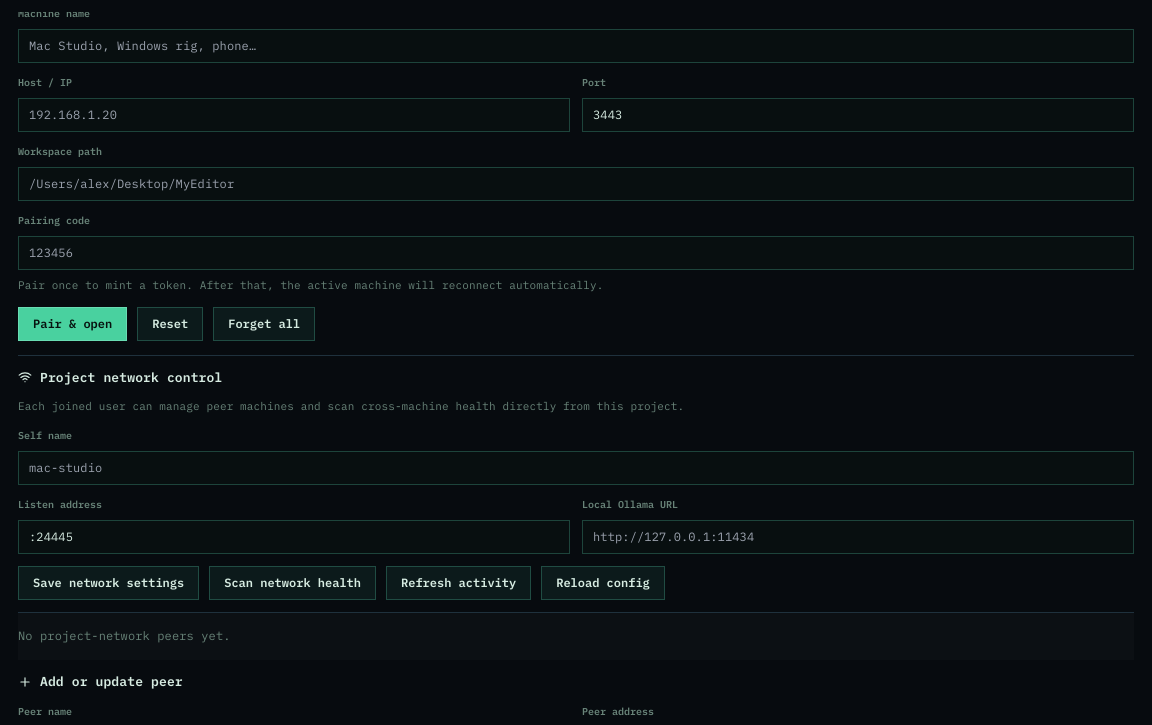
Test: MachineConnectionsPanel workflows › ForgetAllMachines_Cleared
(page scrolled)
Click the button "Forget all".
click(264, 324)  # box [213,307,315,341]
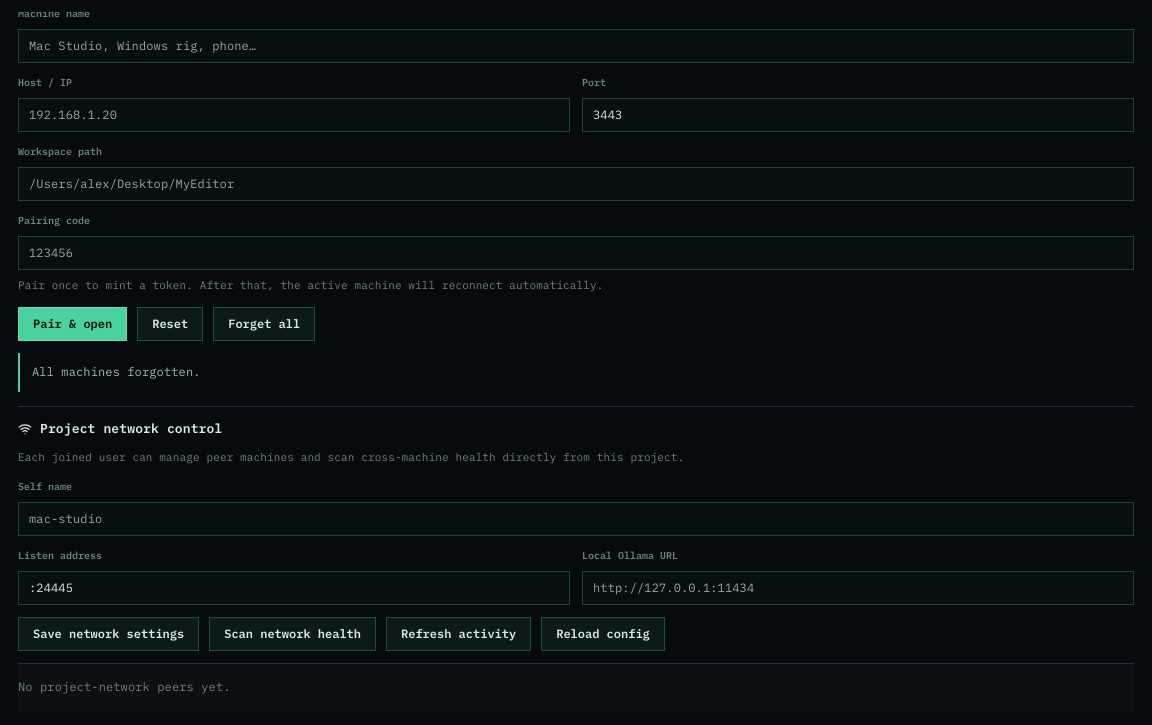
expect the text "All machines forgotten." is shown: met, box [18,353,1134,392]
